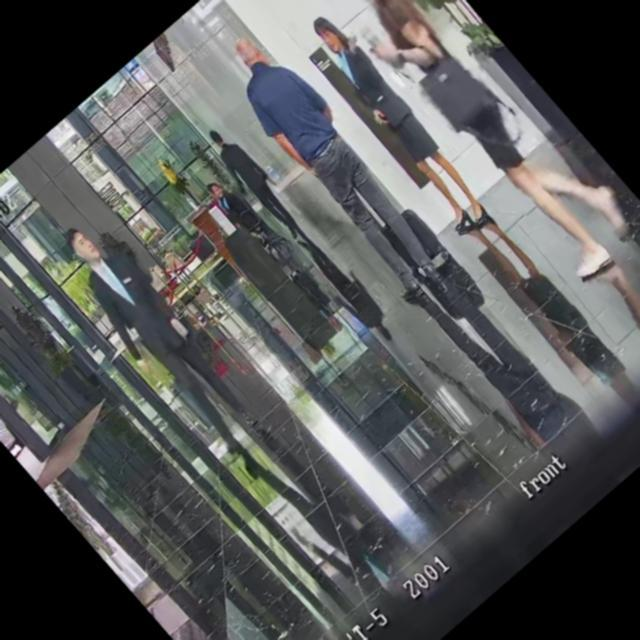person: (299, 0, 640, 291), (202, 22, 464, 308), (41, 209, 276, 466), (290, 7, 503, 243), (200, 119, 324, 256), (204, 172, 277, 250)
